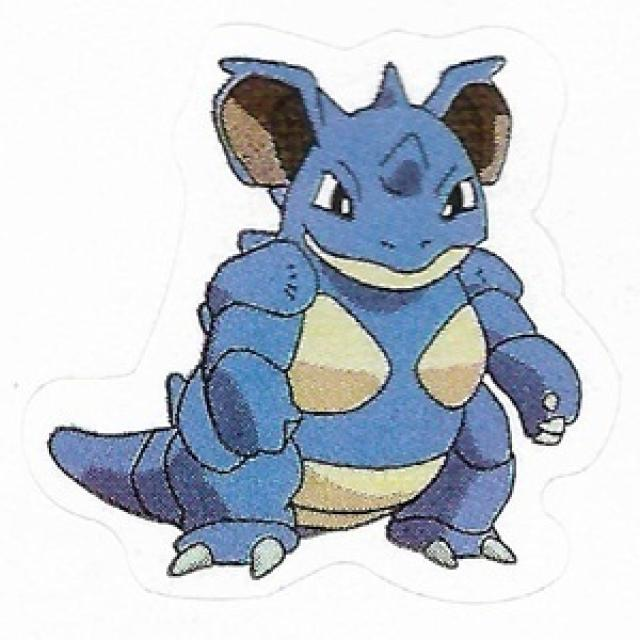Nidoqueen: (179, 58, 539, 569)
